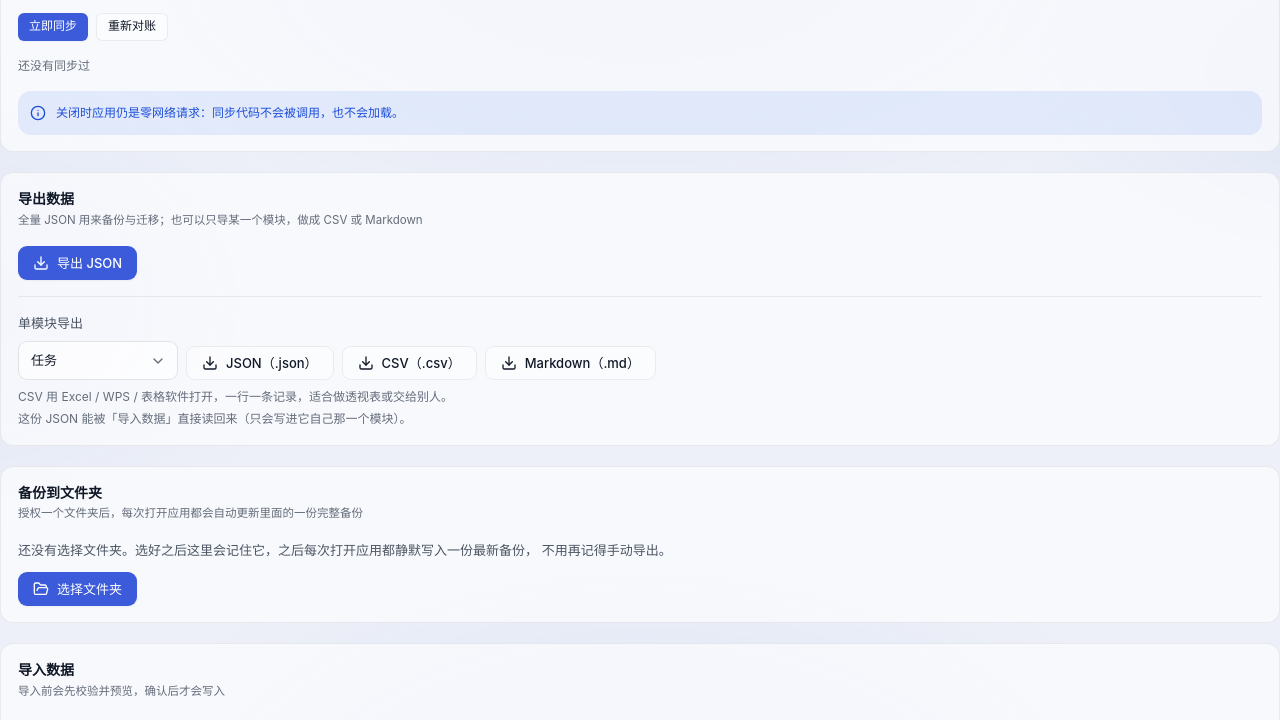
Test: SettingsPage › 分模块导出：选中的模块与格式决定文件名和内容，只带这一个模块
(page scrolled)
Select "书籍" in the dropdown named "选择要导出的模块" at (98,361), box [18,342,178,380]
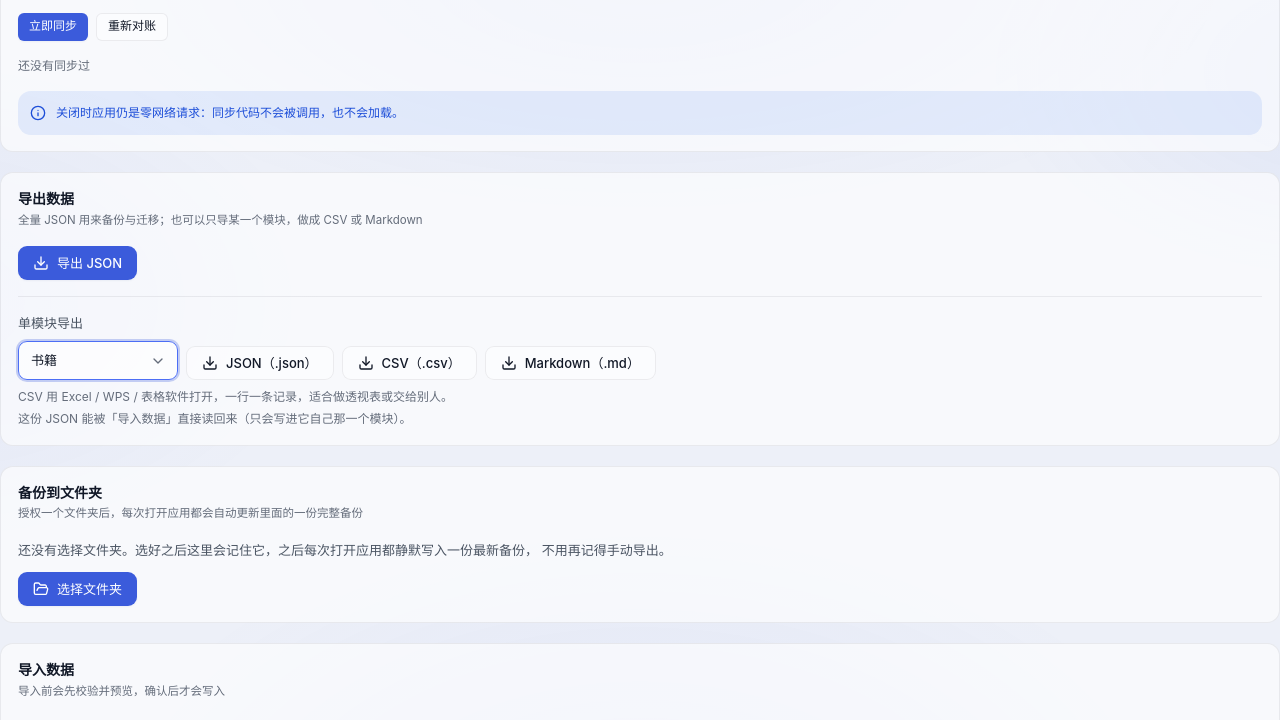
Expected: the element named "选择要导出的模块" is shown, [18,342,656,380]
Expected: the button "JSON（.json）" is shown, [186,346,334,380]
Click the button "CSV（.csv）".
click(409, 363)  # box [342,346,477,380]
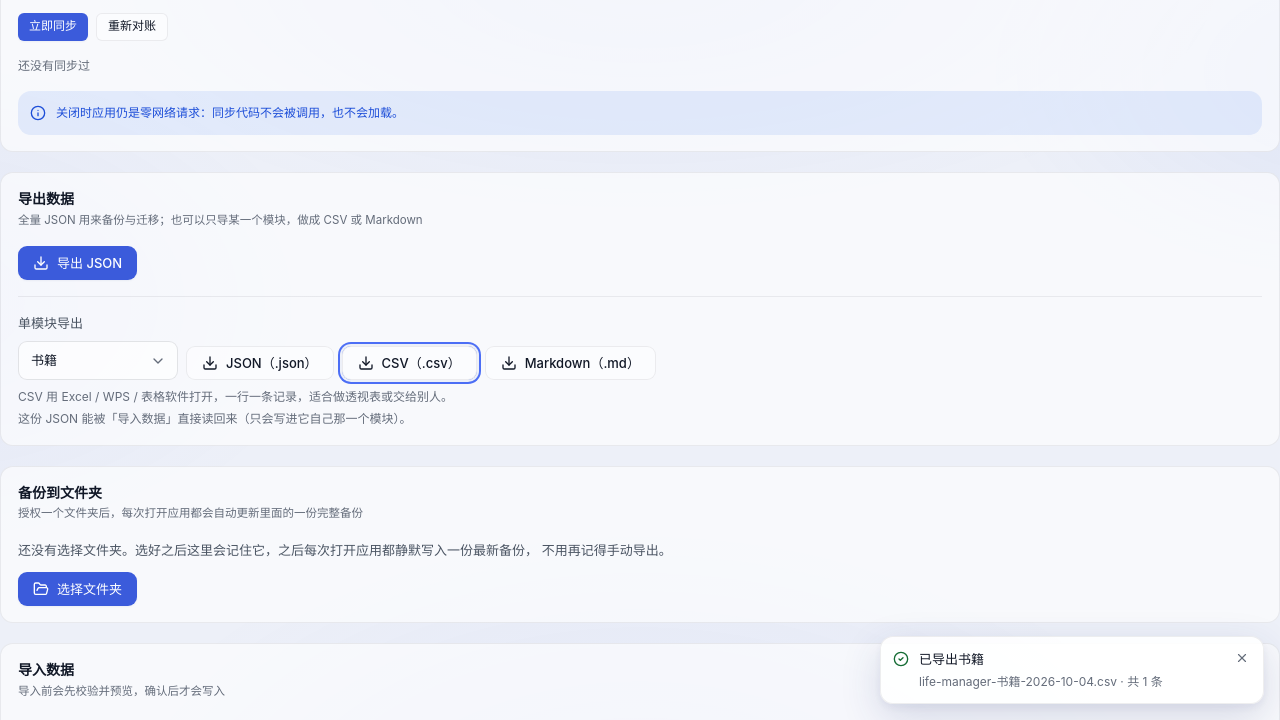
Result: the text "已导出书籍" is shown at [919,651,984,667]
Result: the text "life-manager-书籍-2026-10-04.csv · 共 1 条" is shown at [919,674,1163,688]
